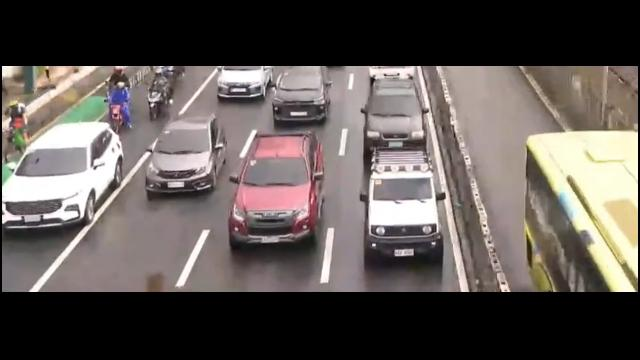bus: (525, 133, 640, 293)
car: (216, 129, 336, 254), (0, 119, 122, 233), (360, 153, 445, 270), (147, 114, 226, 200), (364, 77, 425, 154), (274, 66, 336, 126), (216, 66, 274, 101)
motorcycle: (105, 66, 133, 129), (146, 67, 173, 120)
